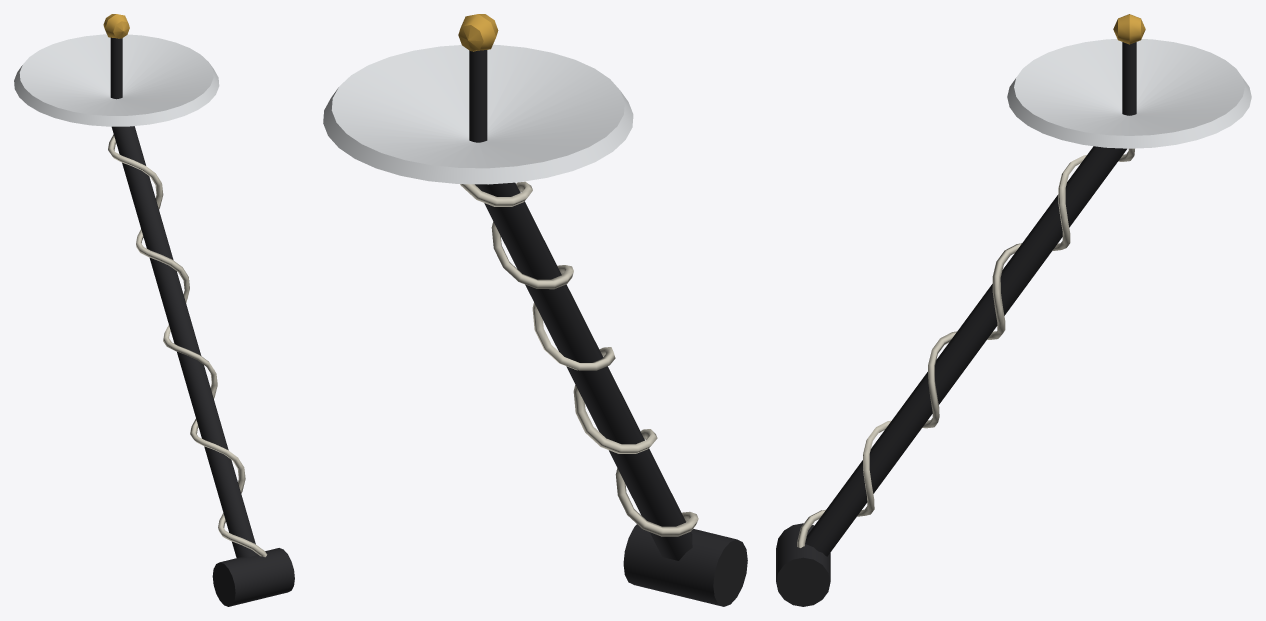
Rendered from rd1_antenna.obj.
3 renders of one model, left to right at view 1: azimuth 30°, elevation 25°; view 2: azimuth 150°, elevation 25°; view 3: azimuth 270°, elevation 25°, orthographic. The views are drawn at different scales.
Parts seen in each view (by area): view 1: rd1_antenna; view 2: rd1_antenna; view 3: rd1_antenna.
Boxes of the visible parts, <box> form: rd1_antenna: <box>14,14,294,606</box>; rd1_antenna: <box>323,14,747,606</box>; rd1_antenna: <box>776,14,1251,606</box>.
Size of the model in its own units: 0.18 by 0.467 by 0.35.
